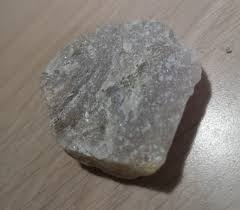obstacle: (47, 17, 200, 178)
